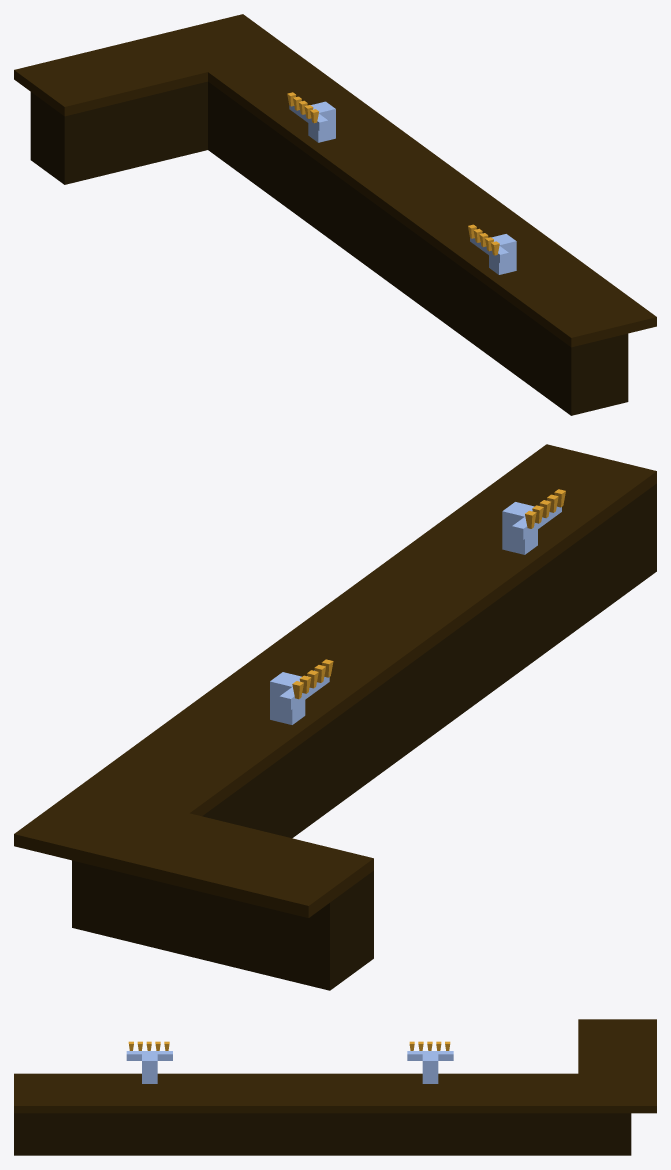
File: bar.glb
The picture shows the model from 3 angles, top to bottom: view 1: azimuth 30°, elevation 25°; view 2: azimuth 150°, elevation 25°; view 3: azimuth 270°, elevation 25°; orthographic projection. The views are drawn at different scales.
Visible parts, largest first — view 1: Bar; view 2: Bar; view 3: Bar.
Boxes of the visible parts, bbox=[...] form: Bar: bbox=[14, 14, 656, 415]; Bar: bbox=[14, 444, 656, 990]; Bar: bbox=[14, 1019, 656, 1155].
Bounding box in the file's own units: 8.01 × 3.93 × 25.08.
1 material, 1 textured.
